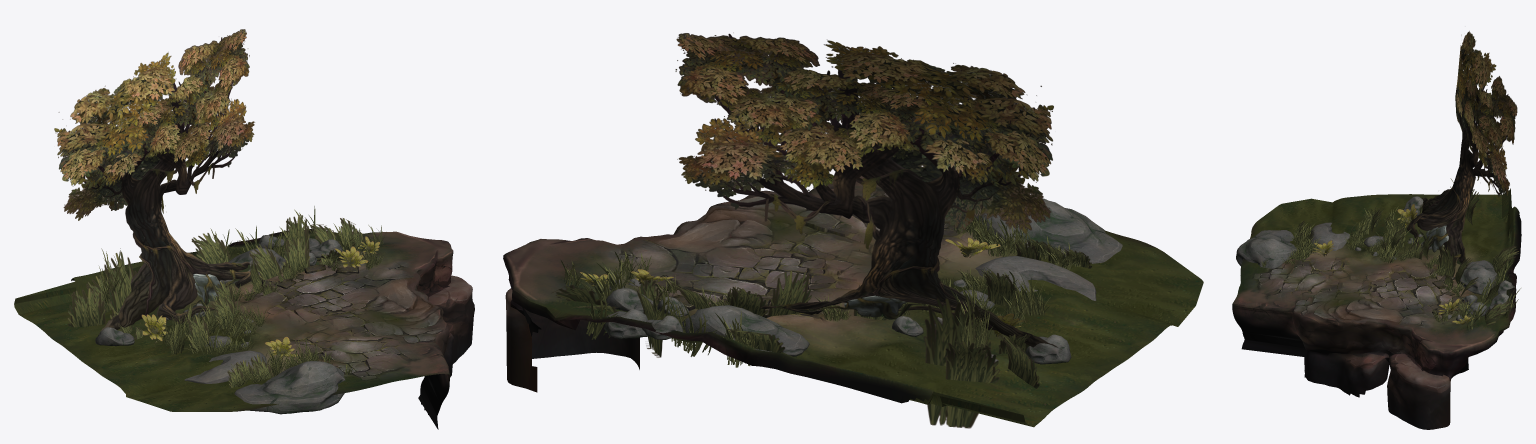
3 views of the same model, side by side, from view 1: azimuth 30°, elevation 25°; view 2: azimuth 150°, elevation 25°; view 3: azimuth 270°, elevation 25° (orthographic). The views are drawn at different scales.
Visible parts, largest first — view 1: pod_01, drvo, biljke_01, kamen, biljke_02, anim_biljke_01, anim_biljke_02, anim_biljke_03; view 2: pod_01, drvo, biljke_01, kamen, biljke_02, anim_biljke_01, anim_biljke_02; view 3: pod_01, drvo, kamen, biljke_01, biljke_02, anim_biljke_02, anim_biljke_01, anim_biljke_03.
Boxes of the visible parts, x1=… form: pod_01: x1=14, y1=229, x2=474, y2=429; drvo: x1=54, y1=29, x2=254, y2=334; biljke_01: x1=67, y1=215, x2=380, y2=388; kamen: x1=95, y1=235, x2=364, y2=414; biljke_02: x1=160, y1=206, x2=385, y2=386; anim_biljke_01: x1=99, y1=228, x2=268, y2=383; anim_biljke_02: x1=168, y1=223, x2=366, y2=368; anim_biljke_03: x1=236, y1=230, x2=291, y2=324; pod_01: x1=503, y1=176, x2=1203, y2=427; drvo: x1=675, y1=32, x2=1061, y2=349; biljke_01: x1=551, y1=237, x2=1091, y2=428; kamen: x1=604, y1=198, x2=1122, y2=364; biljke_02: x1=561, y1=211, x2=1081, y2=356; anim_biljke_01: x1=715, y1=236, x2=1063, y2=367; anim_biljke_02: x1=584, y1=223, x2=1050, y2=316; pod_01: x1=1232, y1=188, x2=1521, y2=429; drvo: x1=1407, y1=31, x2=1517, y2=265; kamen: x1=1236, y1=196, x2=1516, y2=320; biljke_01: x1=1296, y1=189, x2=1518, y2=326; biljke_02: x1=1260, y1=206, x2=1520, y2=330; anim_biljke_02: x1=1302, y1=206, x2=1488, y2=319; anim_biljke_01: x1=1291, y1=178, x2=1515, y2=276; anim_biljke_03: x1=1387, y1=242, x2=1498, y2=291.
Bounding box in the file's own units: 8.64 × 6.63 × 6.51.
Materials: 4 (4 with a texture image).
